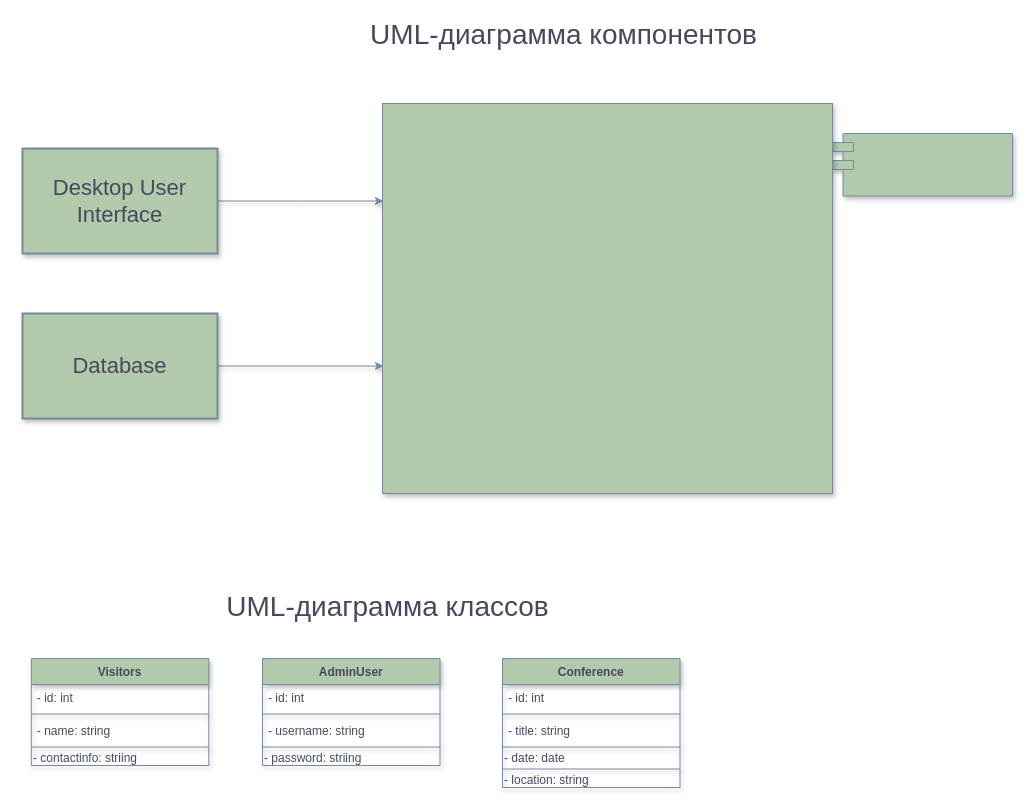
Image size: 1036x812. Some labels were removed from this diagram. Each missing label, with the centre of its shape:
"Admin module" goes at point 923,165.
"Application server" goes at point 608,299.
